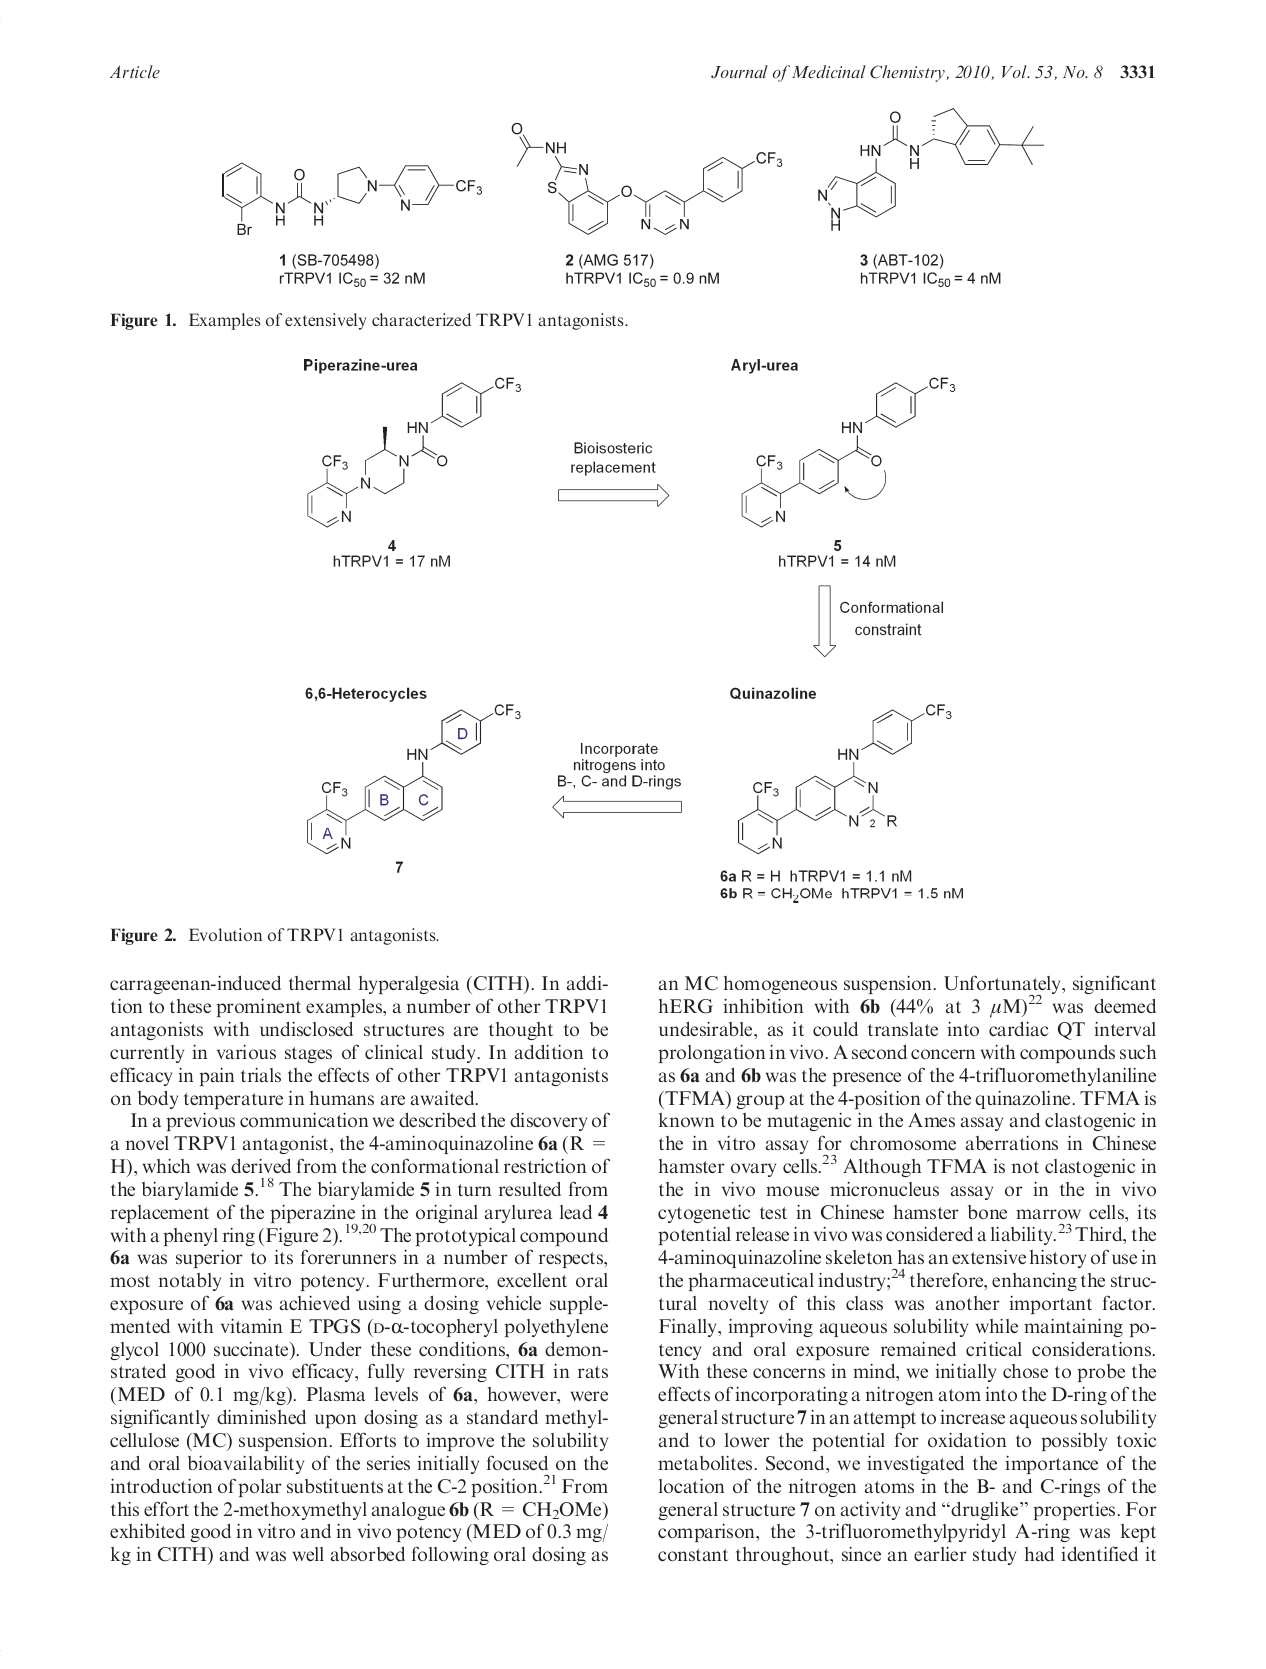exist_molecular: (737, 368, 961, 535), (731, 693, 955, 858), (297, 698, 523, 860), (305, 375, 515, 531), (513, 114, 779, 235), (813, 105, 1048, 231), (215, 160, 492, 246)
